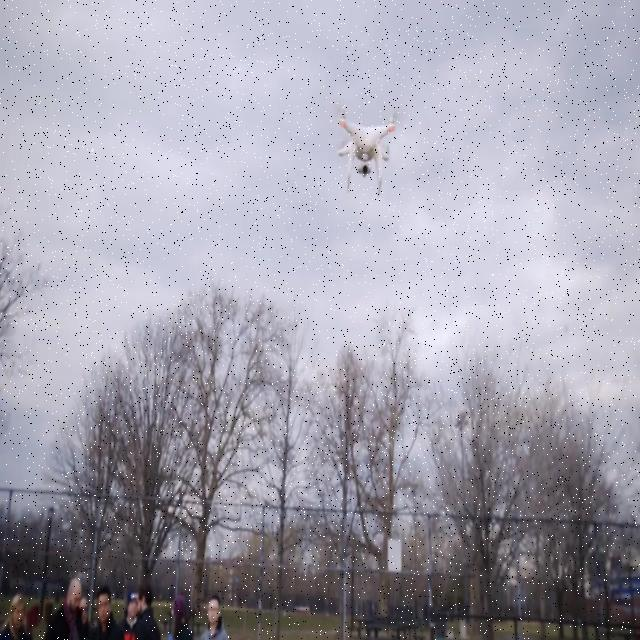UAV: (337, 113, 395, 196)
